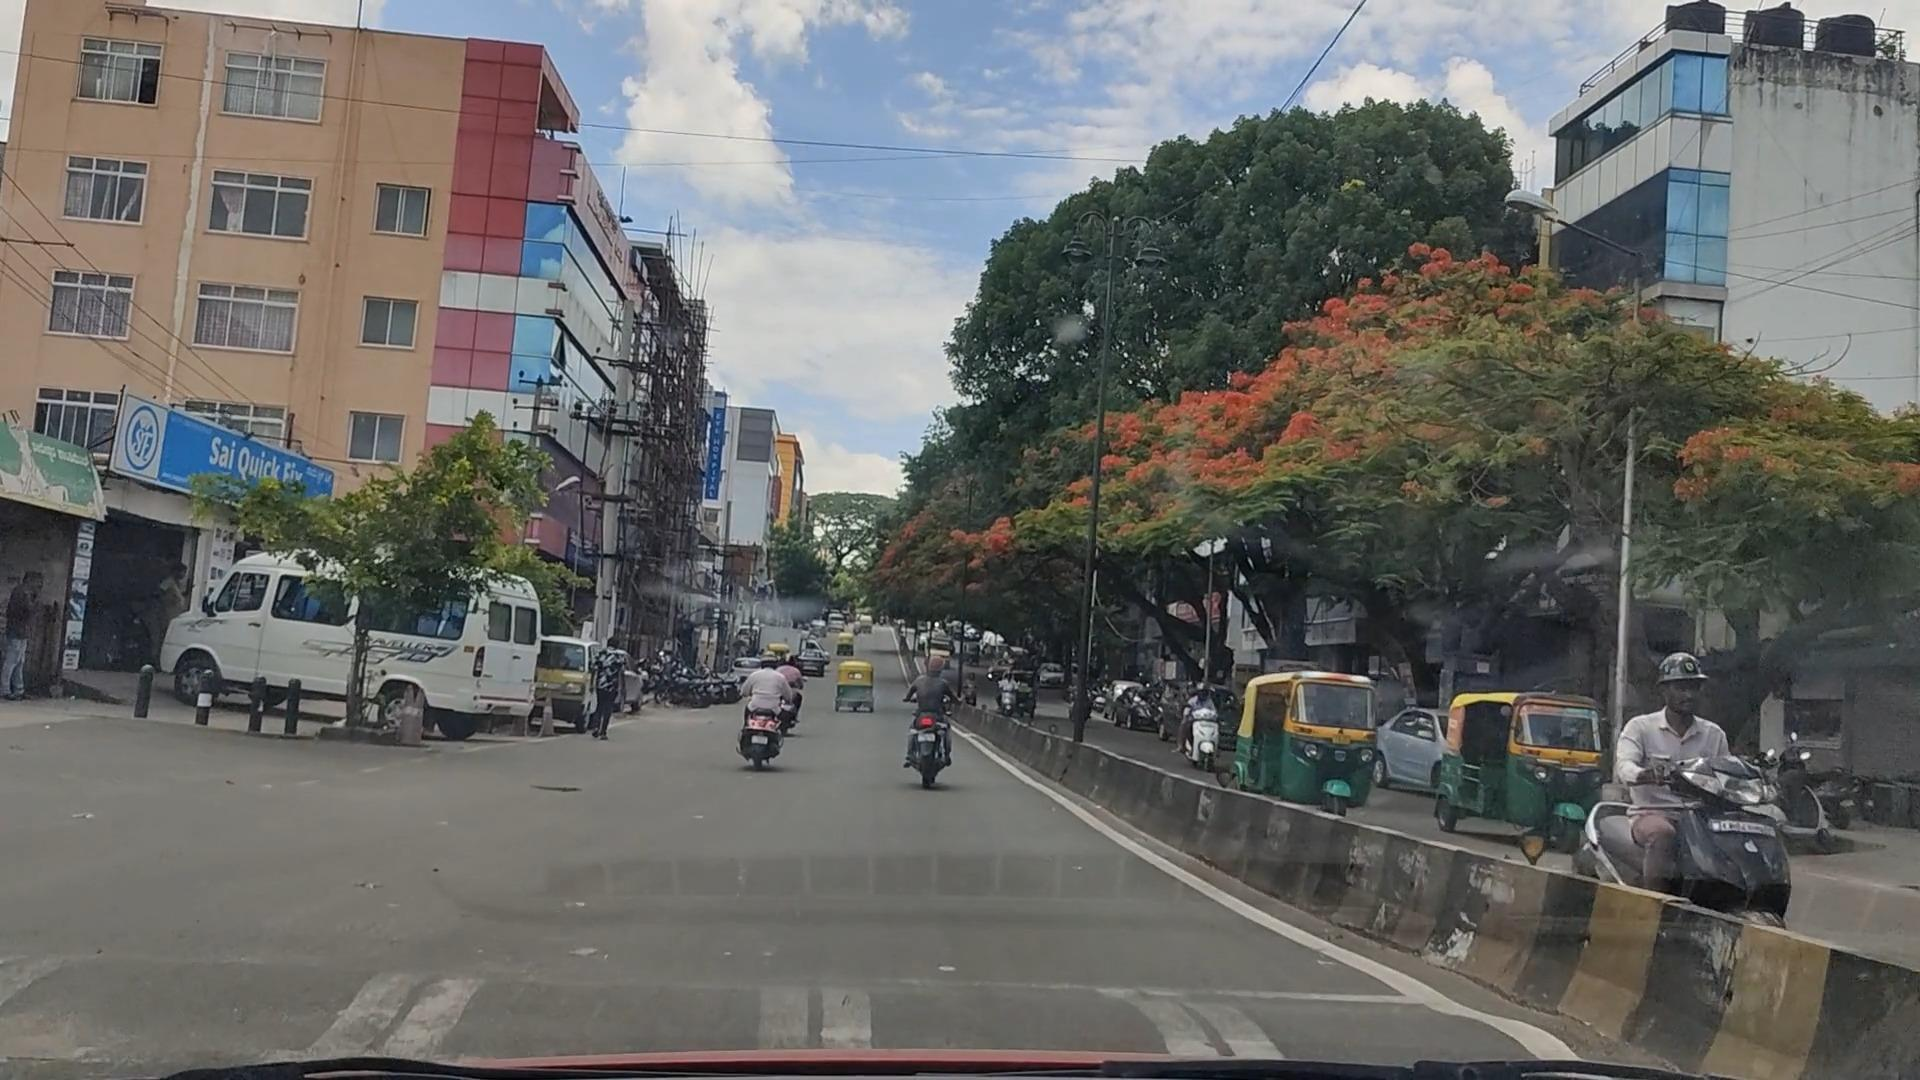SpeedBump: (36, 965, 1539, 1064)
